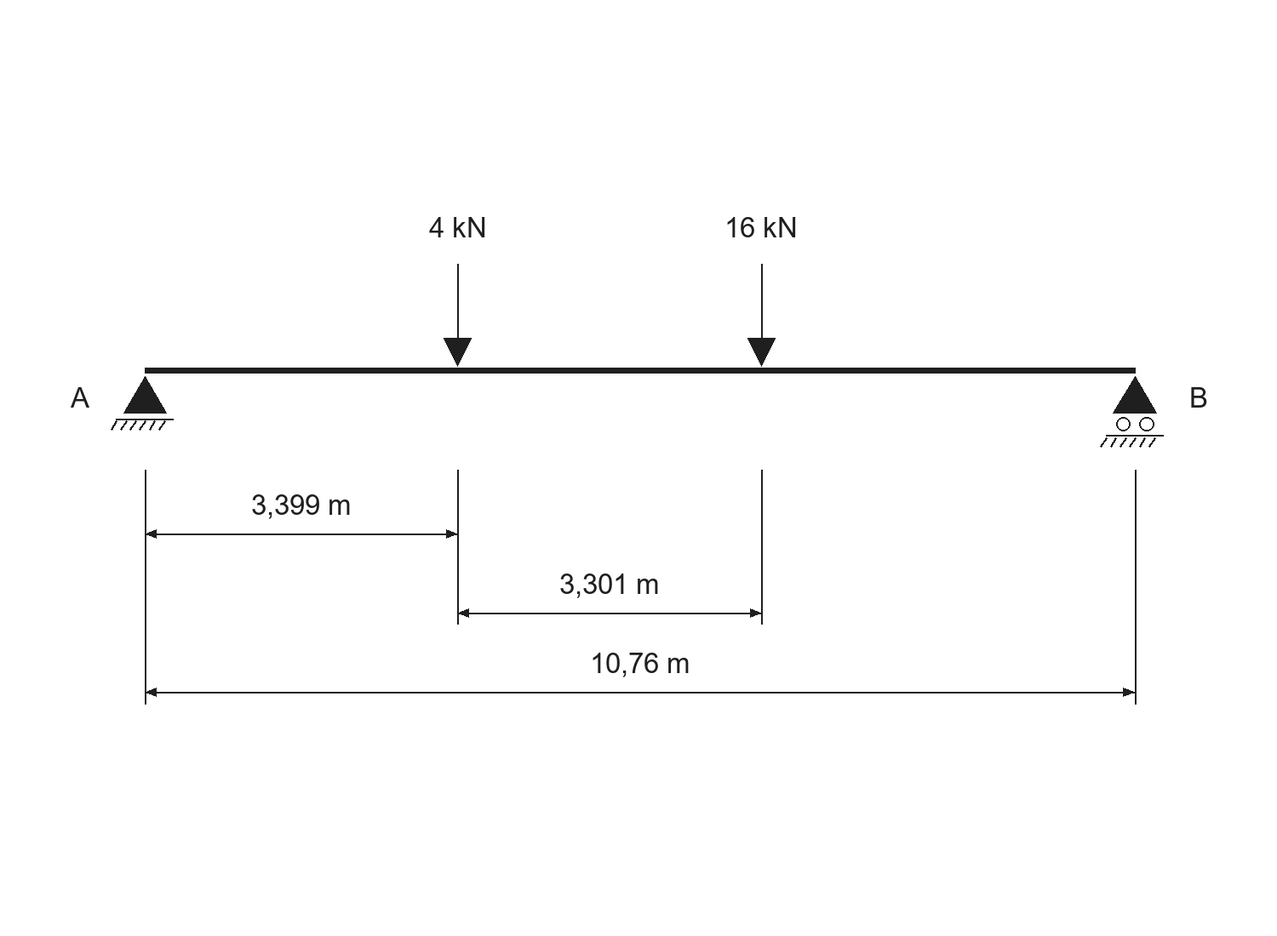pin_support: (111, 376, 174, 431)
point_load: (747, 264, 776, 367), (444, 264, 472, 367)
roller_support: (1100, 376, 1164, 448)
